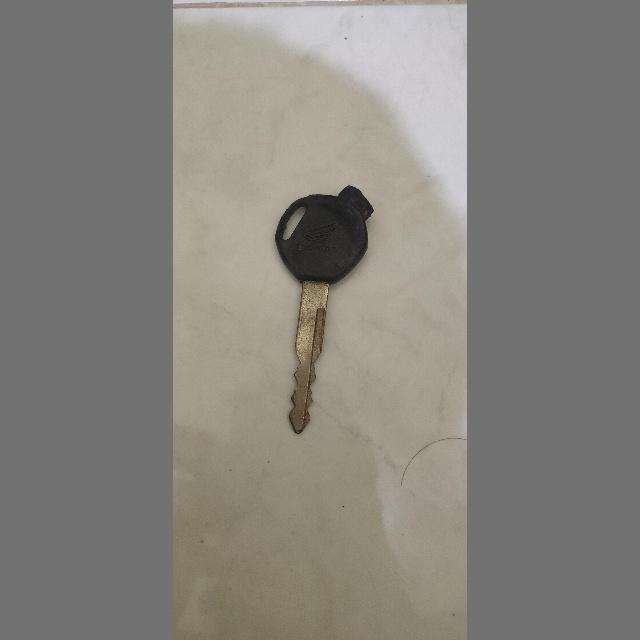Keys: (257, 176, 391, 440)
